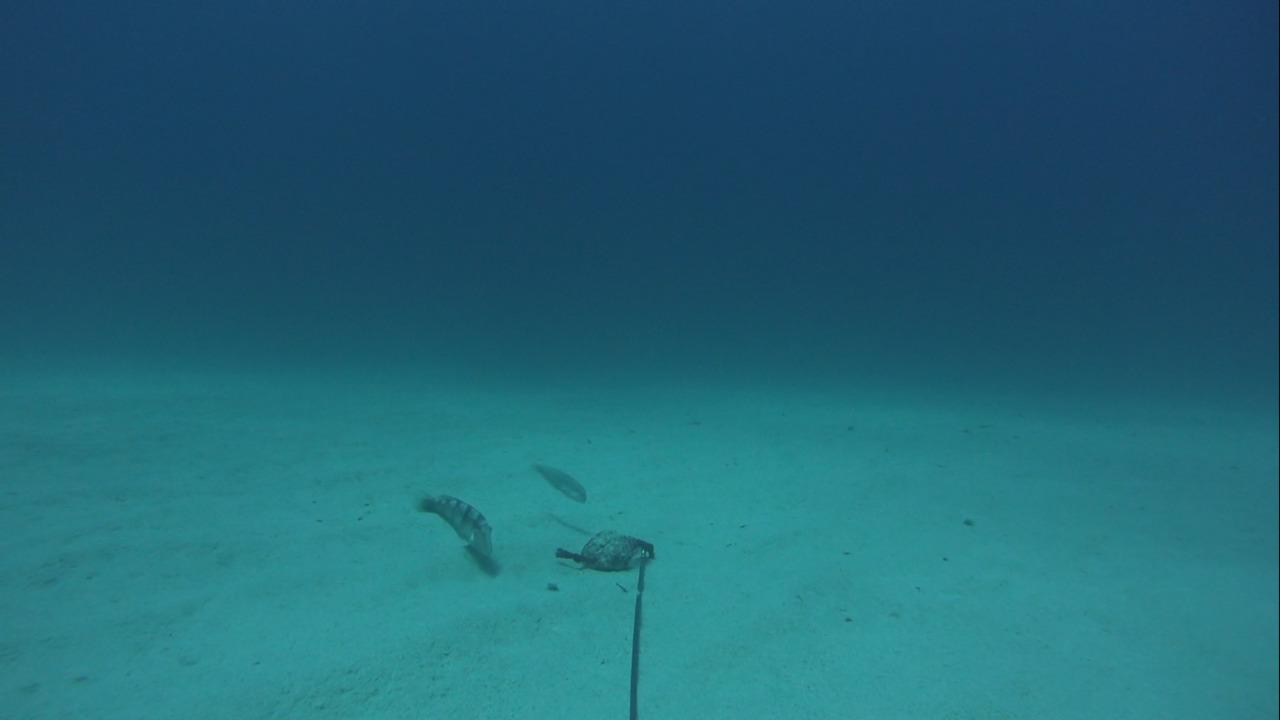raor: (403, 482, 502, 559), (525, 453, 591, 502)
